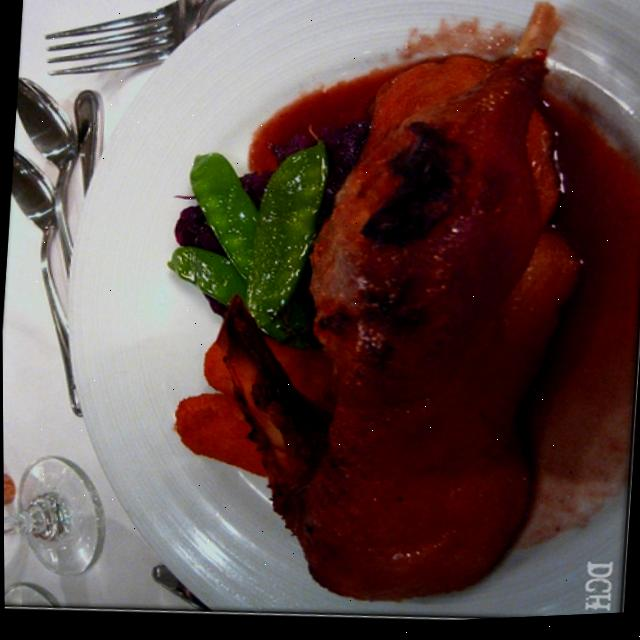烧串烤肉: (118, 0, 613, 631)
